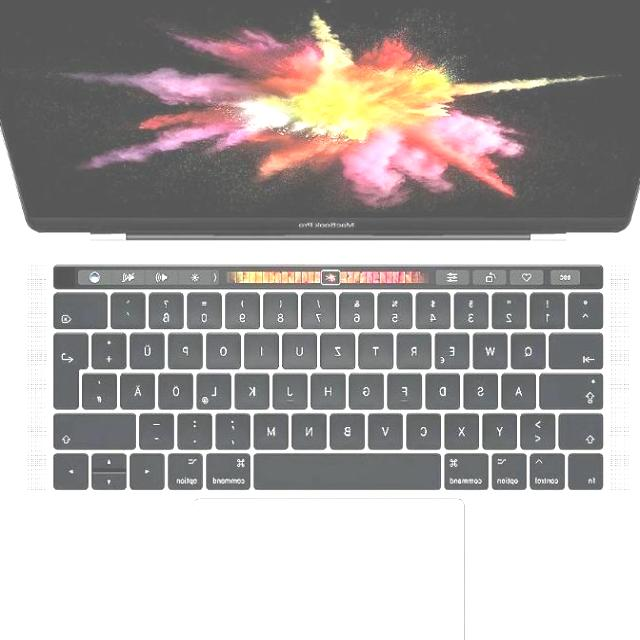0: (188, 288, 225, 327)
1: (533, 288, 569, 326)
2: (494, 288, 531, 326)
3: (456, 288, 493, 327)
4: (417, 287, 453, 326)
5: (379, 288, 416, 327)
6: (341, 288, 378, 327)
7: (303, 288, 339, 326)
8: (264, 288, 302, 327)
9: (226, 288, 263, 327)
a: (504, 369, 539, 408)
accent: (114, 287, 150, 325)
ae: (122, 369, 159, 408)
alt-left: (493, 449, 530, 489)
altgr-right: (170, 449, 207, 488)
b: (331, 409, 369, 448)
c: (408, 409, 445, 448)
caret: (571, 288, 607, 326)
comma: (217, 409, 254, 447)
d: (428, 369, 464, 408)
del: (56, 288, 111, 326)
e: (437, 329, 473, 368)
enter: (55, 329, 92, 408)
f: (390, 369, 426, 408)
g: (352, 369, 388, 408)
h: (314, 369, 350, 408)
hash: (85, 369, 121, 407)
i: (246, 329, 282, 367)
j: (276, 369, 311, 408)
k: (237, 369, 274, 407)
keyboard: (43, 259, 617, 497)
l: (198, 369, 234, 408)
less: (522, 409, 559, 448)
m: (256, 409, 293, 448)
minus: (142, 409, 178, 447)
n: (294, 409, 331, 448)
o: (208, 329, 245, 367)
oe: (160, 369, 197, 408)
p: (170, 329, 207, 367)
plus: (95, 329, 130, 367)
point: (179, 409, 216, 447)
q: (513, 329, 550, 368)
r: (398, 329, 435, 368)
s: (466, 370, 502, 408)
shift-left: (561, 410, 607, 449)
shift-lock: (541, 370, 607, 408)
shift-right: (55, 409, 140, 448)
space: (256, 450, 444, 488)
ss: (151, 288, 188, 326)
strg-left: (531, 449, 568, 489)
t: (361, 329, 396, 367)
tab: (552, 329, 607, 368)
u: (284, 329, 321, 368)
ue: (132, 329, 169, 368)
v: (370, 409, 407, 448)
w: (476, 329, 512, 368)
x: (446, 409, 482, 448)
y: (484, 409, 521, 448)
z: (322, 329, 359, 367)
